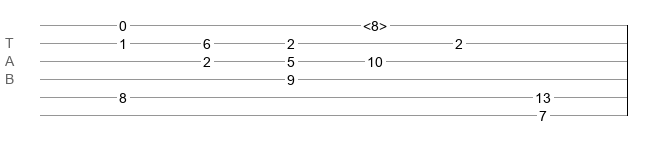0: (119, 18, 127, 28)
1: (119, 36, 127, 46)
10: (367, 54, 383, 64)
13: (535, 90, 551, 100)
2: (203, 54, 211, 64), (287, 36, 295, 46), (455, 36, 463, 46)
5: (287, 54, 295, 64)
6: (203, 36, 211, 46)
7: (539, 108, 547, 118)
8: (119, 90, 127, 100)
9: (287, 72, 295, 82)
harmonic: (363, 18, 387, 28)
